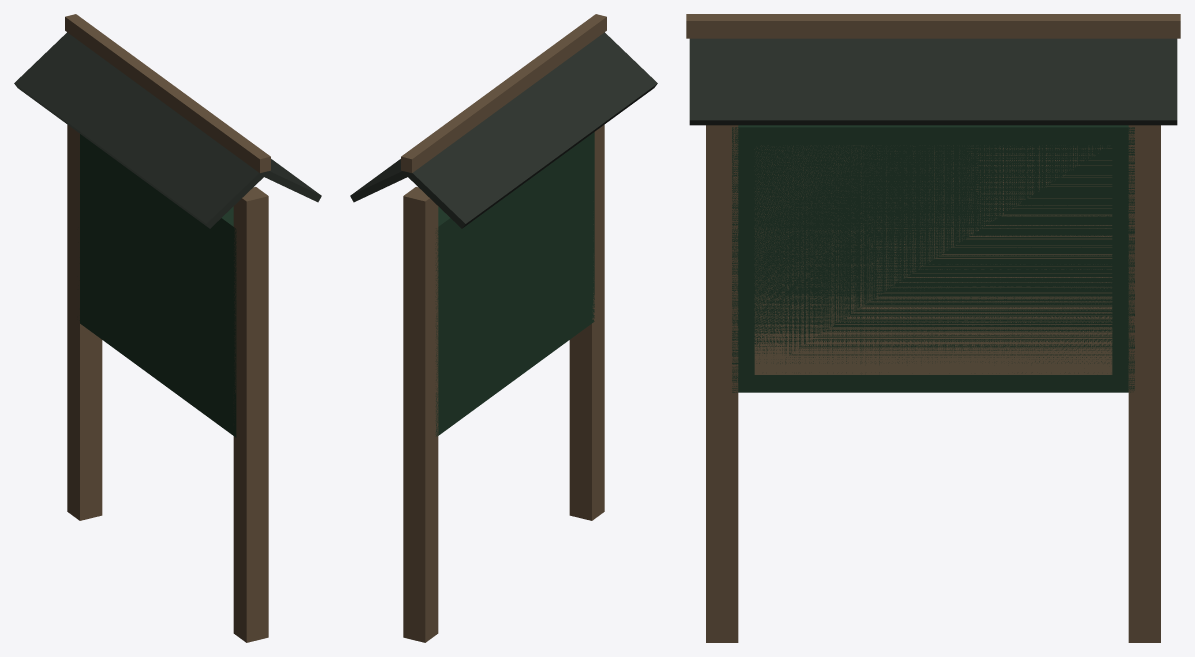
Rendered from SM_Prop_notice_board_0_LOD1.glb.
3 views of the same model, side by side, from view 1: azimuth 30°, elevation 25°; view 2: azimuth 150°, elevation 25°; view 3: azimuth 270°, elevation 25° (orthographic). The views are drawn at different scales.
Visible parts, largest first — view 1: SM_Prop_notice_board_0_LOD1; view 2: SM_Prop_notice_board_0_LOD1; view 3: SM_Prop_notice_board_0_LOD1.
Part boxes in pixels (x1,y1,x2,y2): SM_Prop_notice_board_0_LOD1: (14,14,321,642); SM_Prop_notice_board_0_LOD1: (350,14,657,642); SM_Prop_notice_board_0_LOD1: (686,14,1180,642).
Size of the model in its own units: 0.521 by 2.1 by 1.52.
